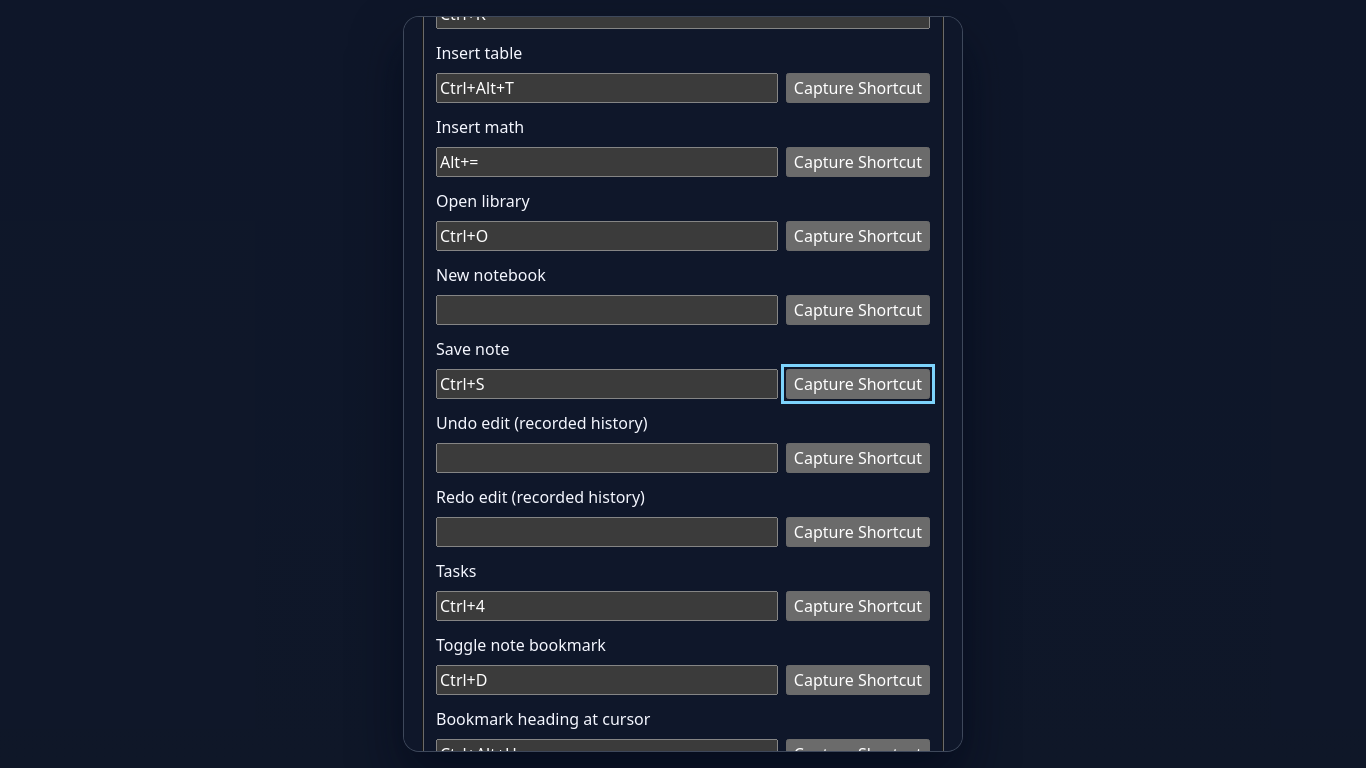
Test case: Settings interface and shortcut capture › rejects reserved keys and collisions without changing the old value, and permits retry
(page scrolled)
Click the 5th button "Capture Shortcut" at [858, 384], box [786,369,930,399]
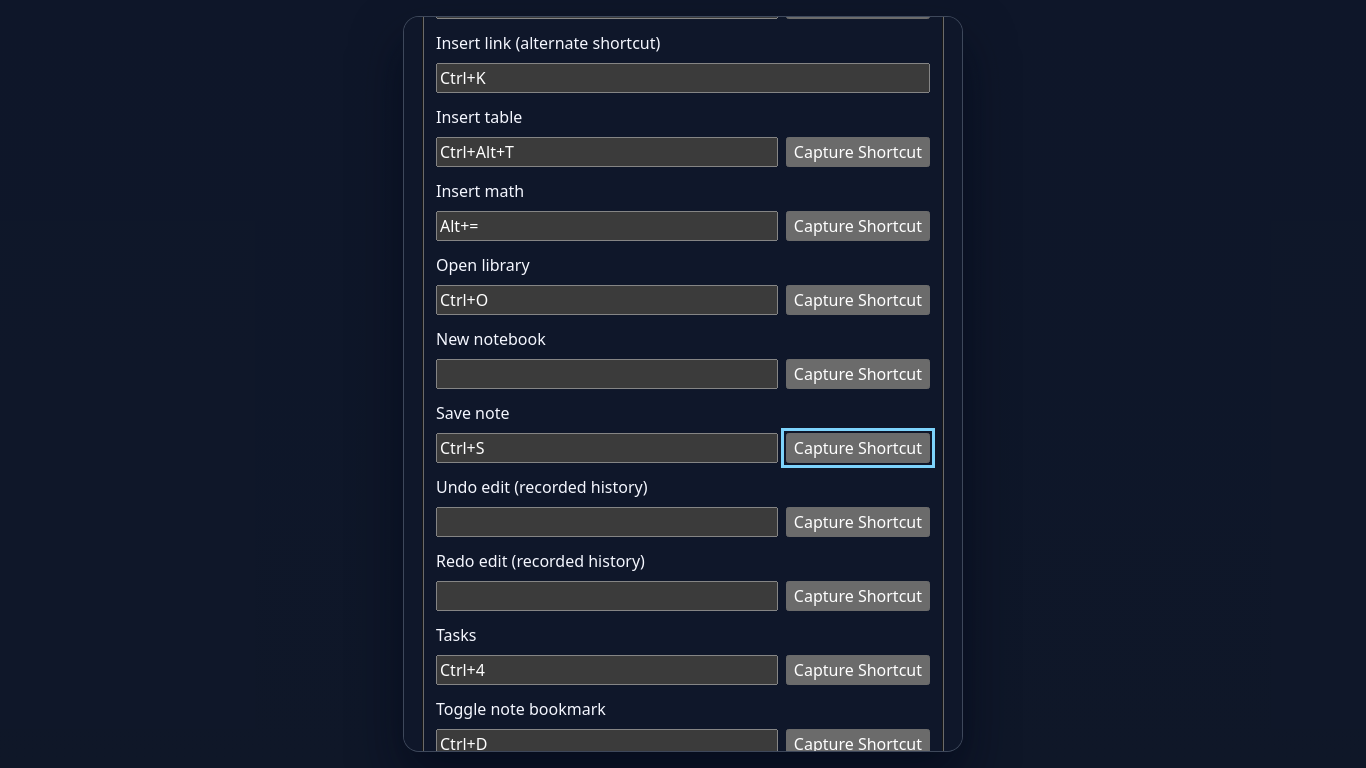
Press F6 in the 6th button "Capture Shortcut", box [786,433,930,463]
Expected: the field labelled "Save note" holds "Ctrl+S", [436,433,778,463]
Press o in the 6th button "Capture Shortcut", box [786,433,930,463]
Expected: the field labelled "Save note" holds "Ctrl+S", [436,433,778,463]
Press j in the 6th button "Capture Shortcut", box [786,433,930,463]
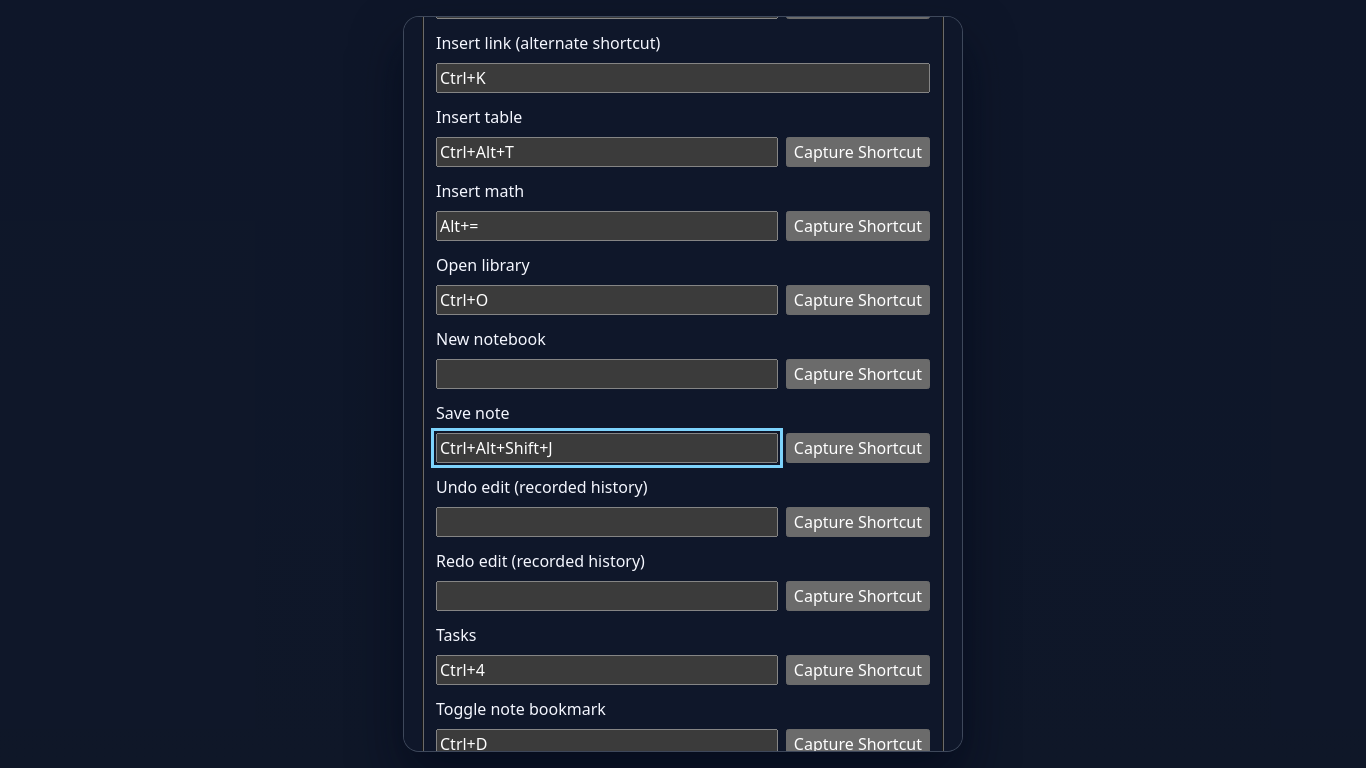
Expected: the field labelled "Save note" holds "Ctrl+Alt+Shift+J", [436,433,778,463]
